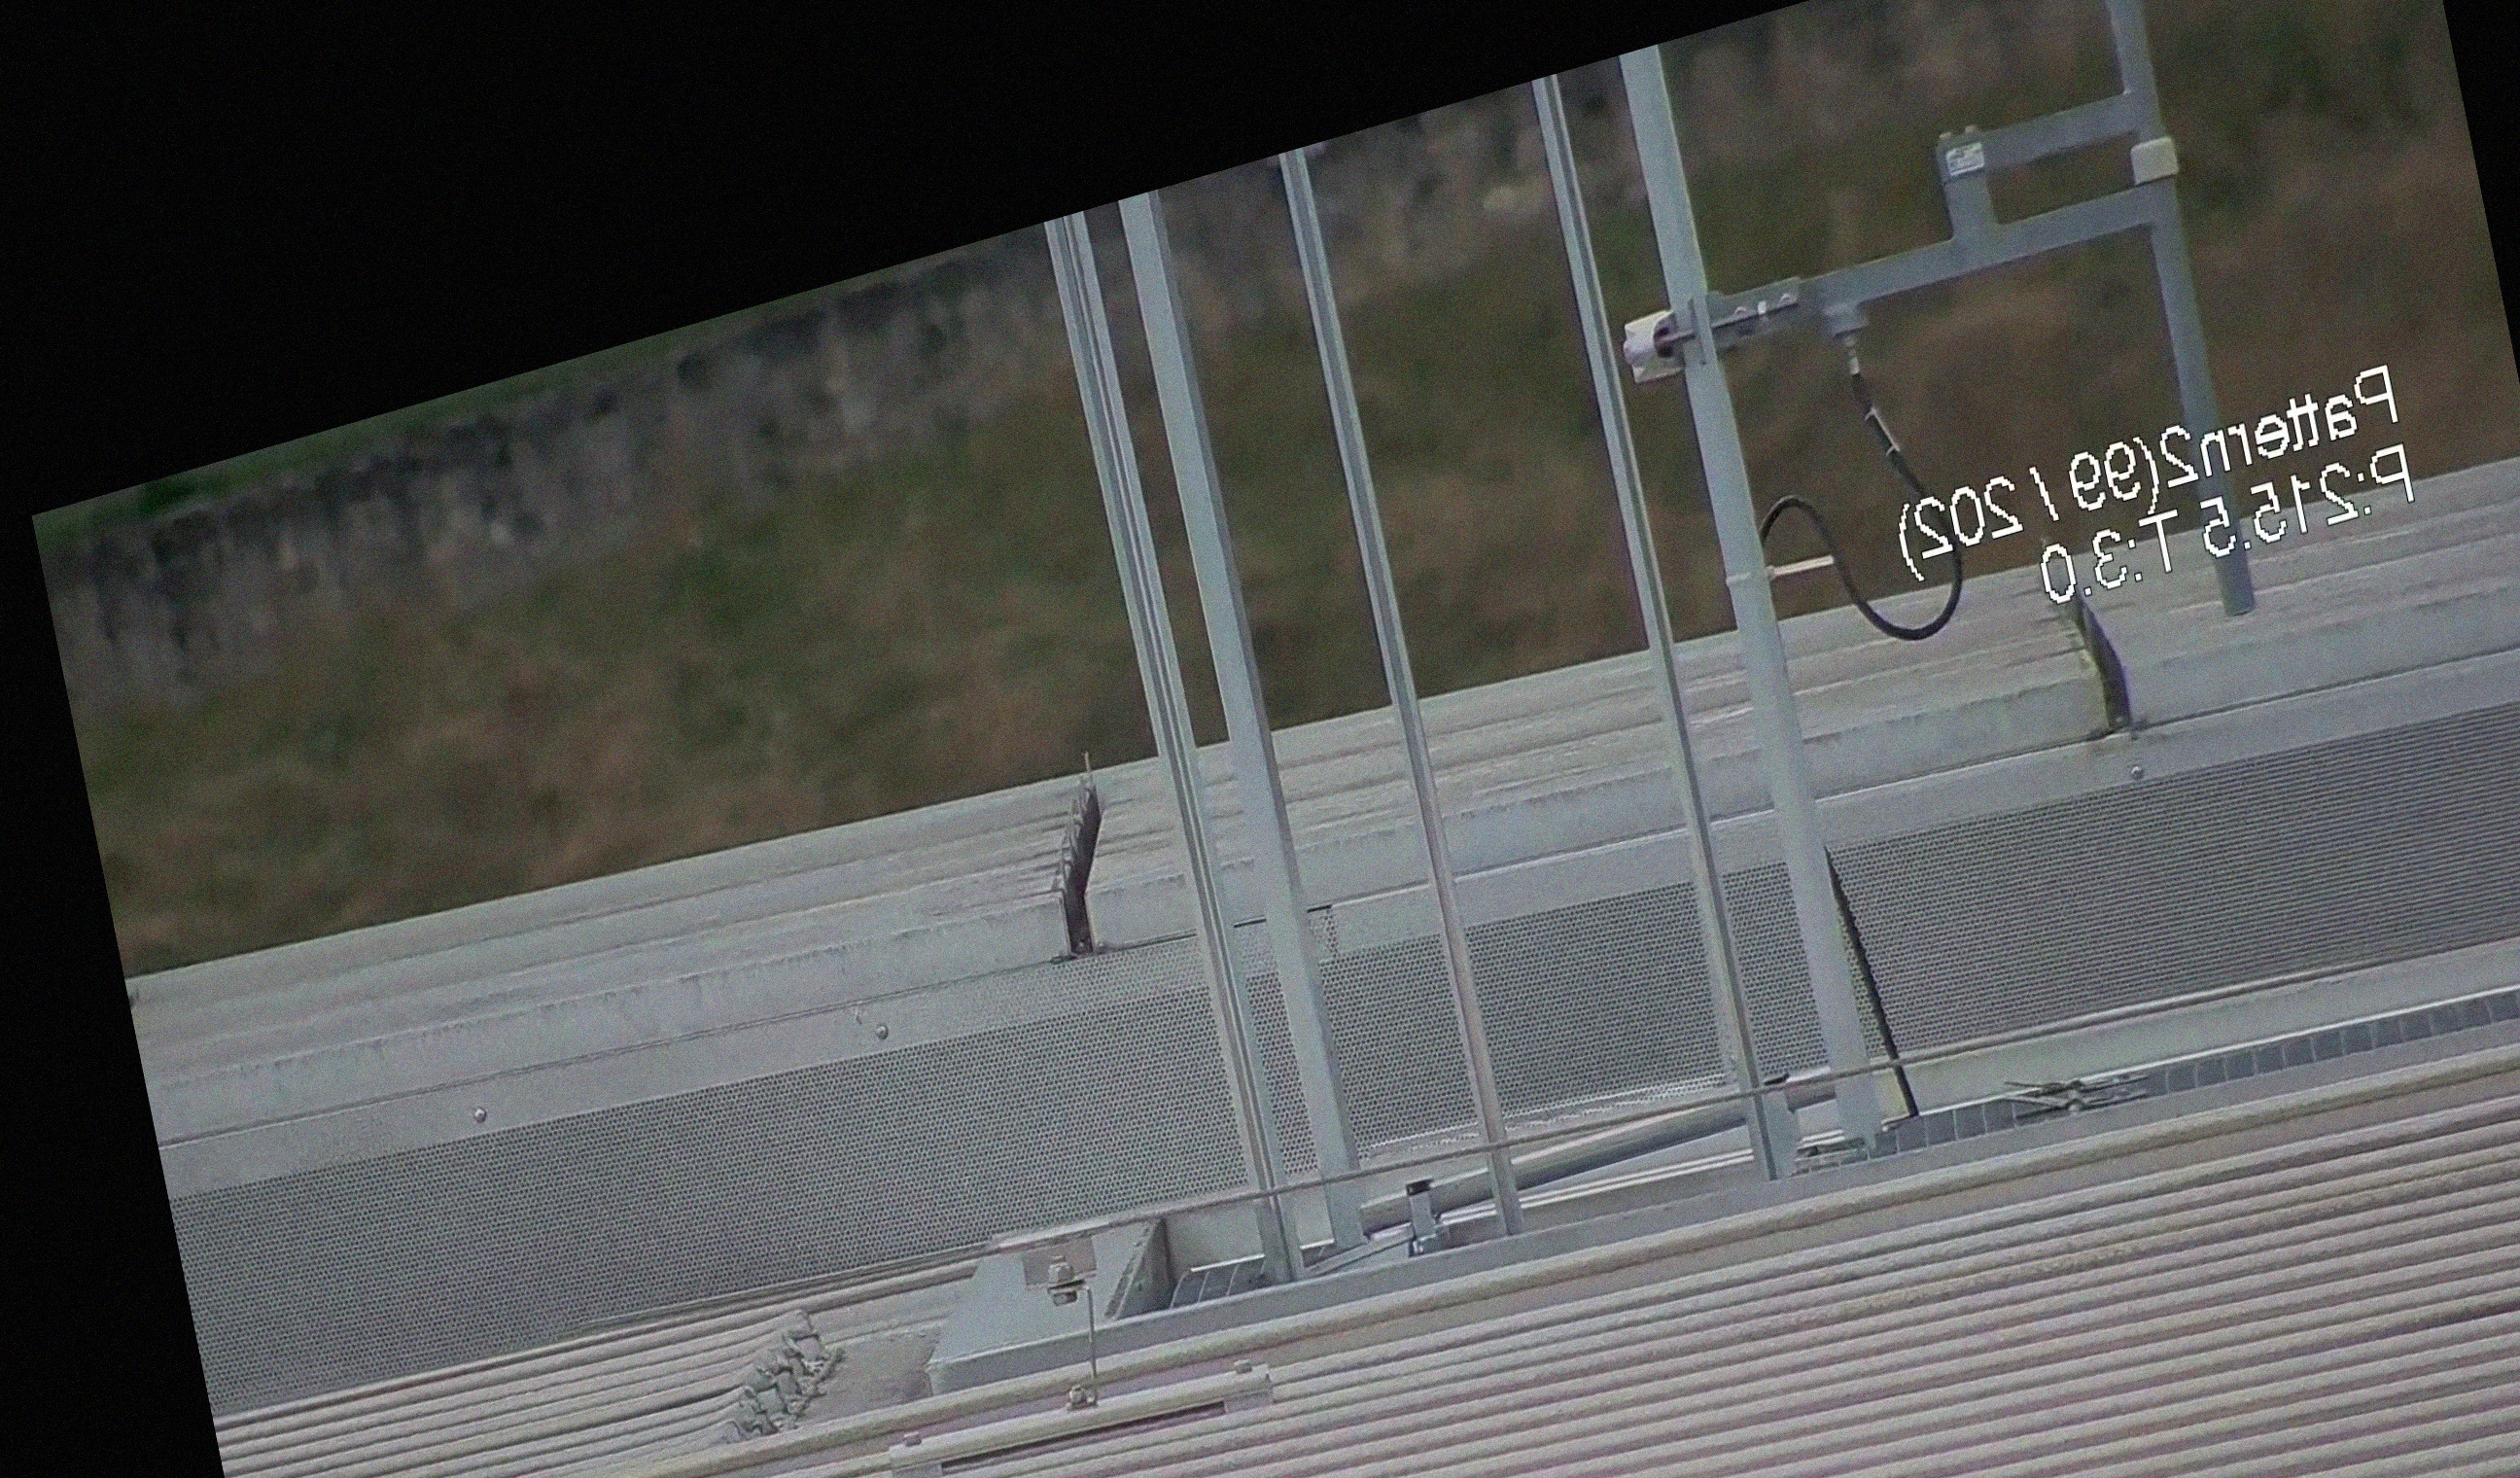Other: (997, 735, 1150, 975)
